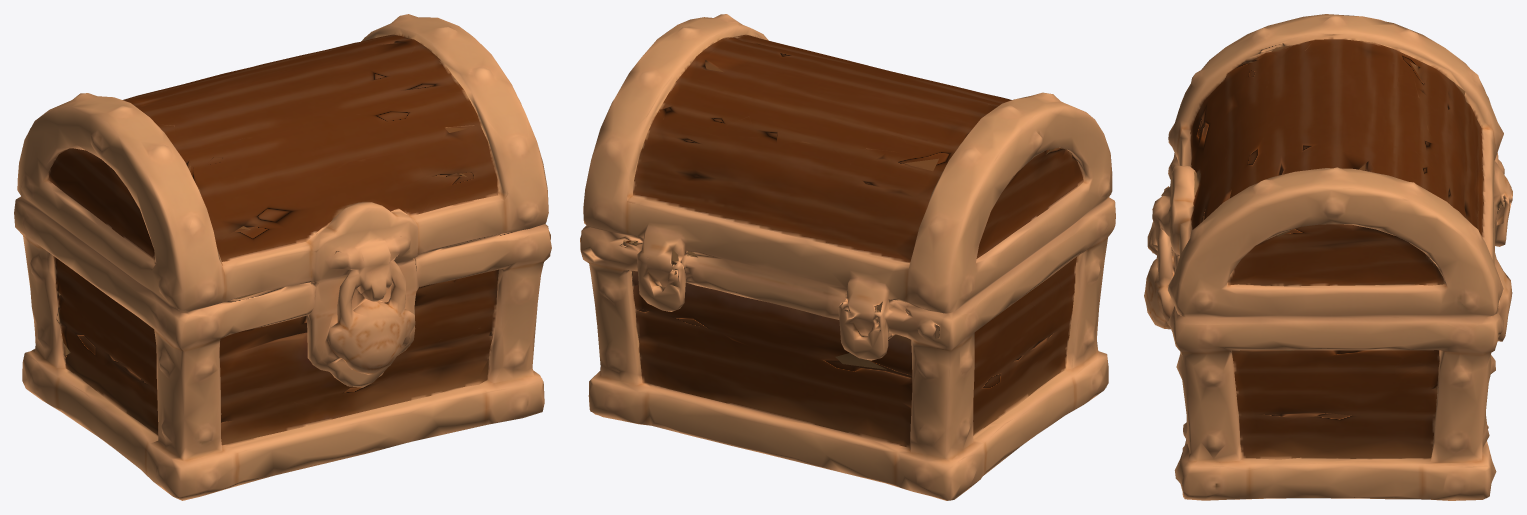
File: env_treasure_chest.glb
3 renders of one model, left to right at view 1: azimuth 30°, elevation 25°; view 2: azimuth 150°, elevation 25°; view 3: azimuth 270°, elevation 25°, orthographic. The views are drawn at different scales.
Visible parts, largest first — view 1: world; view 2: world; view 3: world.
Boxes of the visible parts, left/top/right/bottom form: world: left=14, top=14, right=551, bottom=500; world: left=580, top=14, right=1115, bottom=500; world: left=1144, top=14, right=1512, bottom=500.
Size of the model in its own units: 0.9974 by 0.8282 by 0.8562.
Materials: 1 (1 with a texture image).
